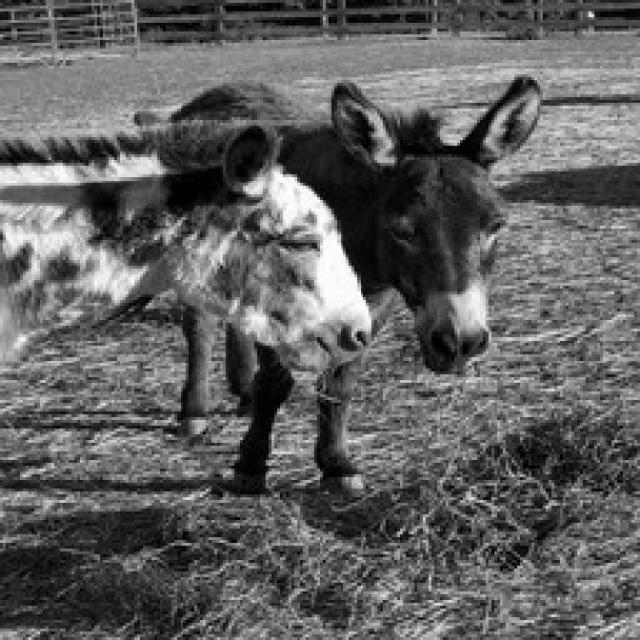Donkey: (131, 71, 543, 492), (0, 119, 371, 494)
